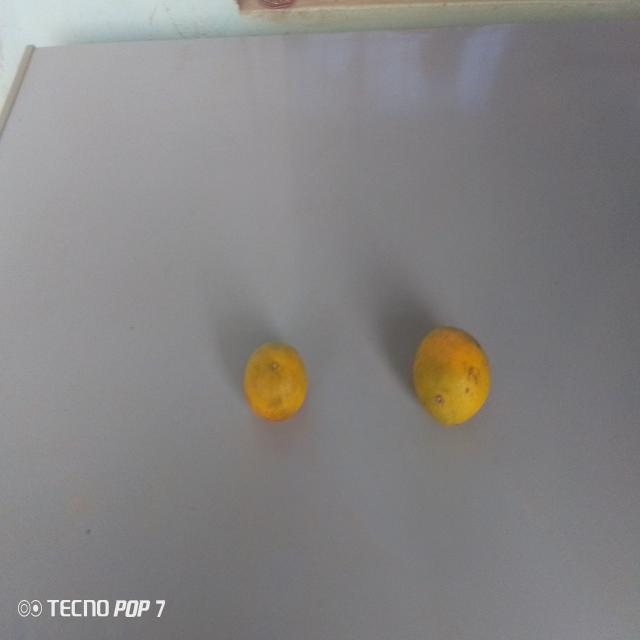Ripe orange: (398, 311, 497, 446), (230, 322, 315, 428)
